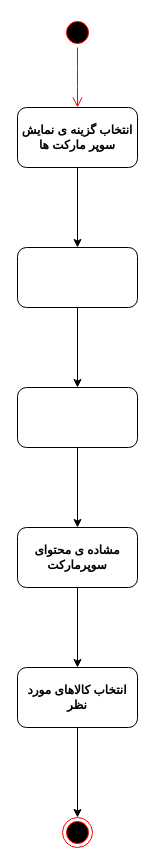
The diagram is 155 pixels wide and 865 high, and some of its shapes have lost their labels. The centre of each missing label's shape, as x and y in pixels:
انتخاب سوپر مارکت: point 77,417
مشاهده ی لیست سوپرمارکت های نزدیک به خریدار: point 77,277
